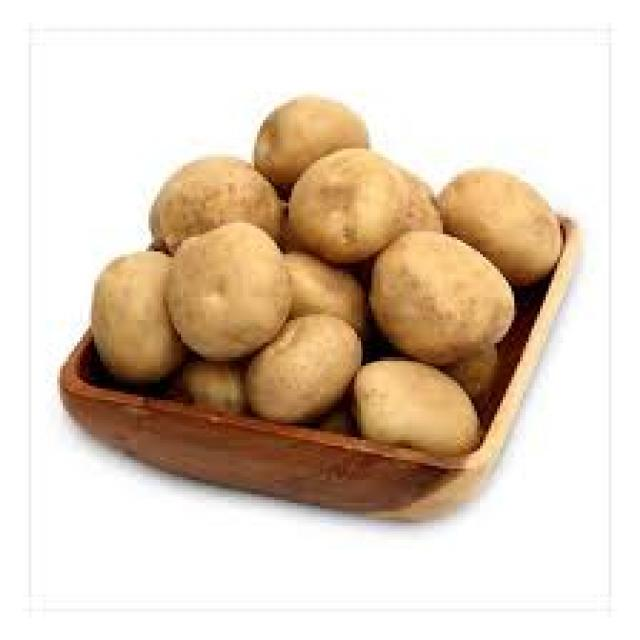Potato: (371, 231, 517, 369), (289, 149, 443, 266), (169, 223, 294, 361), (249, 314, 363, 424), (354, 360, 480, 457)
